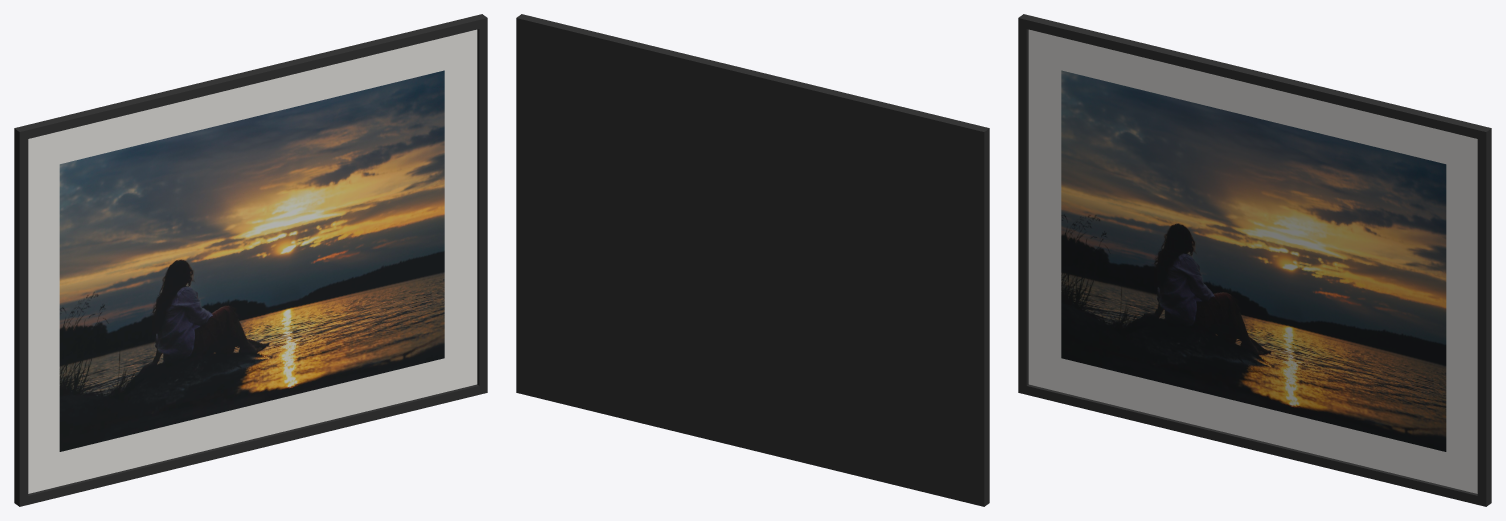
File: kvallen-90.gltf
3 views of the same model, side by side, from view 1: azimuth 30°, elevation 25°; view 2: azimuth 150°, elevation 25°; view 3: azimuth 330°, elevation 25° (orthographic).
Parts seen in each view (by area): view 1: tavla; view 2: tavla; view 3: tavla.
Boxes of the visible parts, x1,y1,x2,y2 form: tavla: (14, 14, 487, 506); tavla: (516, 14, 989, 506); tavla: (1018, 14, 1491, 506).
Size of the model in its own units: 1.09 by 0.8373 by 0.022.
3 materials, 1 textured.
